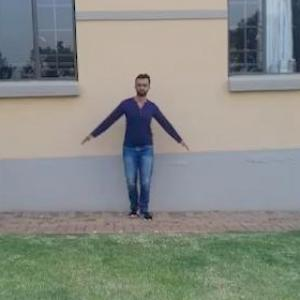land: (84, 76, 186, 232)
